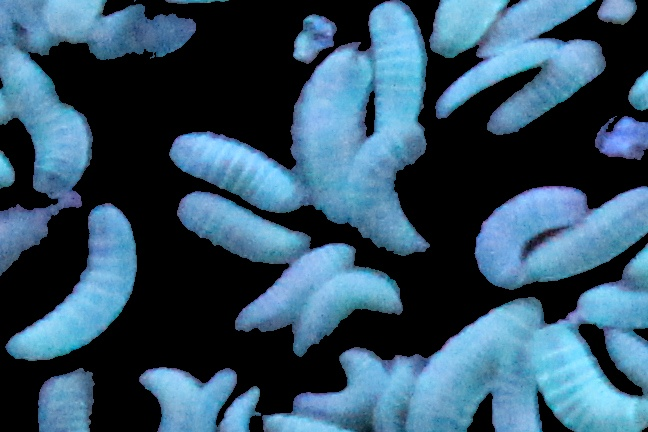larvae: (6, 203, 146, 363), (407, 298, 543, 432), (291, 43, 371, 222), (531, 323, 648, 432), (522, 187, 648, 286), (472, 186, 587, 287), (170, 130, 303, 213), (488, 43, 604, 135), (236, 243, 354, 331), (352, 125, 430, 255), (435, 40, 559, 118), (176, 190, 310, 262), (293, 268, 402, 352), (368, 1, 427, 124), (293, 348, 385, 424), (477, 1, 593, 54), (32, 103, 94, 192), (487, 338, 544, 431), (1, 43, 57, 125), (430, 1, 506, 58), (375, 352, 426, 432), (140, 370, 200, 432), (34, 373, 97, 432), (567, 286, 648, 329), (604, 324, 648, 391), (198, 367, 238, 432), (223, 387, 267, 432), (262, 413, 346, 432)
